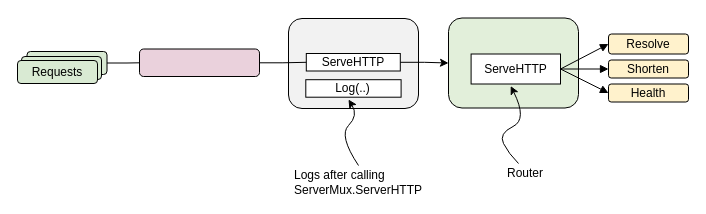
Image size: 706x214. Some labels were removed from this diagram. The box of each missing label's shape, as (x1, y1, x2, y2) in pixels:
*http.ServeMux: (448, 17, 578, 108)
*http.Server: (138, 48, 260, 76)
Middleware handler: (288, 18, 418, 108)
